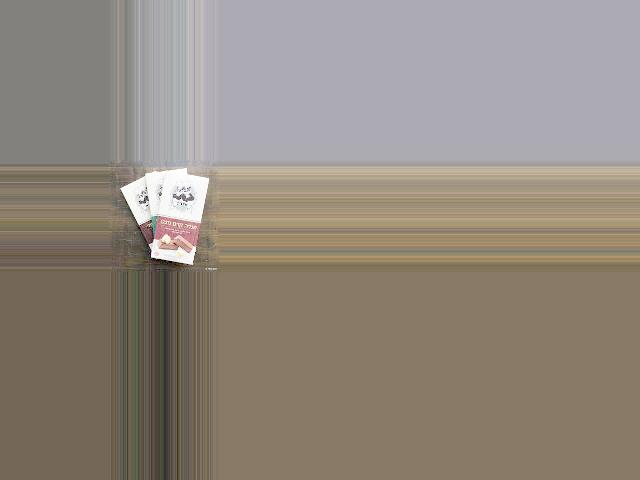chocolate: (119, 168, 179, 264)
